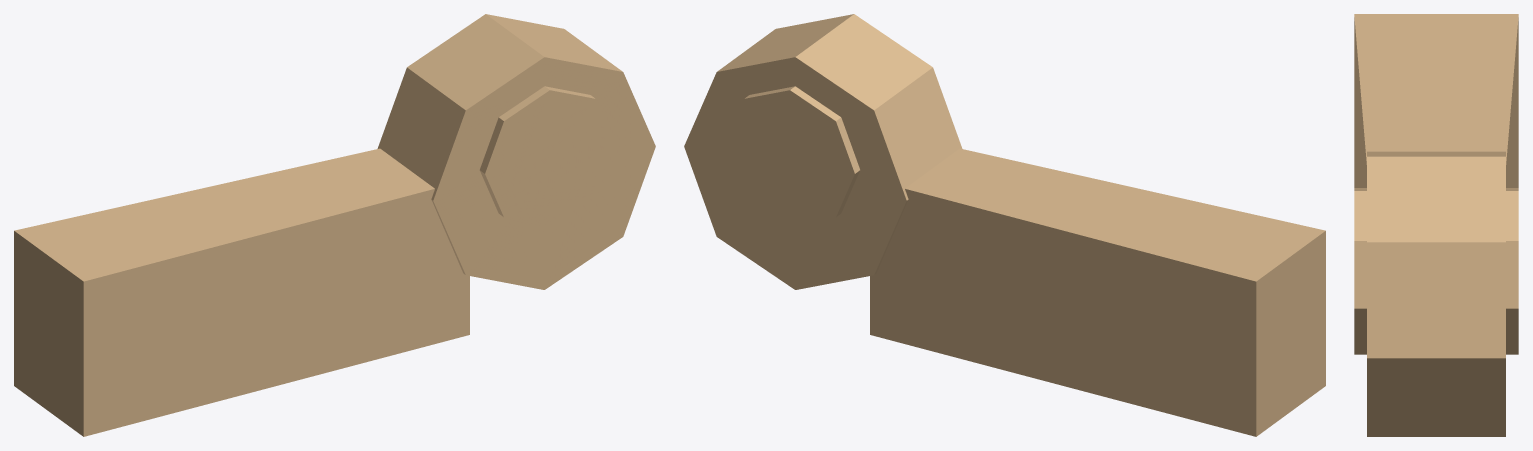
Rendered from prop-fiddle-scroll-blank.fbx.
3 renders of one model, left to right at view 1: azimuth 30°, elevation 25°; view 2: azimuth 150°, elevation 25°; view 3: azimuth 270°, elevation 25°, orthographic. The views are drawn at different scales.
Visible parts, largest first — view 1: prop-fiddle-scroll-blank; view 2: prop-fiddle-scroll-blank; view 3: prop-fiddle-scroll-blank.
Boxes of the visible parts, left/top/right/bottom form: prop-fiddle-scroll-blank: left=14, top=14, right=655, bottom=436; prop-fiddle-scroll-blank: left=684, top=14, right=1325, bottom=436; prop-fiddle-scroll-blank: left=1354, top=14, right=1518, bottom=436.
Bounding box in the file's own units: 12.45 × 5.4 × 2.6.
